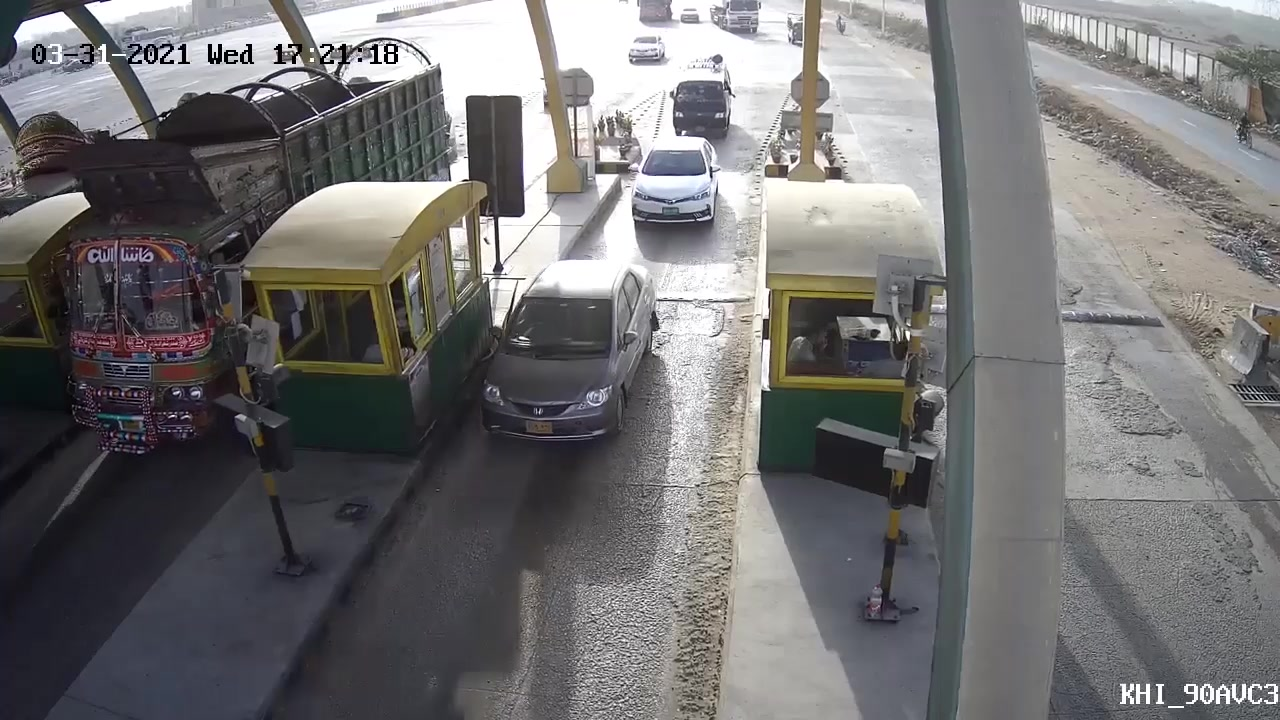F1: (485, 255, 664, 464)
